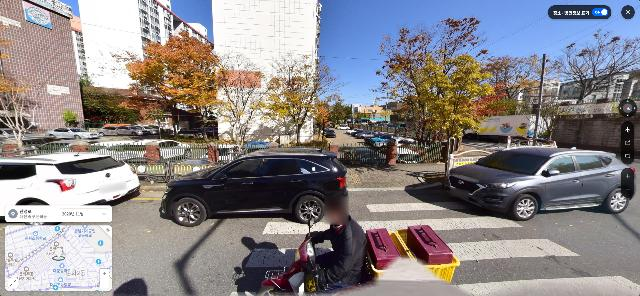ginkgo: (369, 9, 508, 149), (256, 51, 344, 147), (209, 51, 267, 158)
other: (111, 23, 223, 139)
